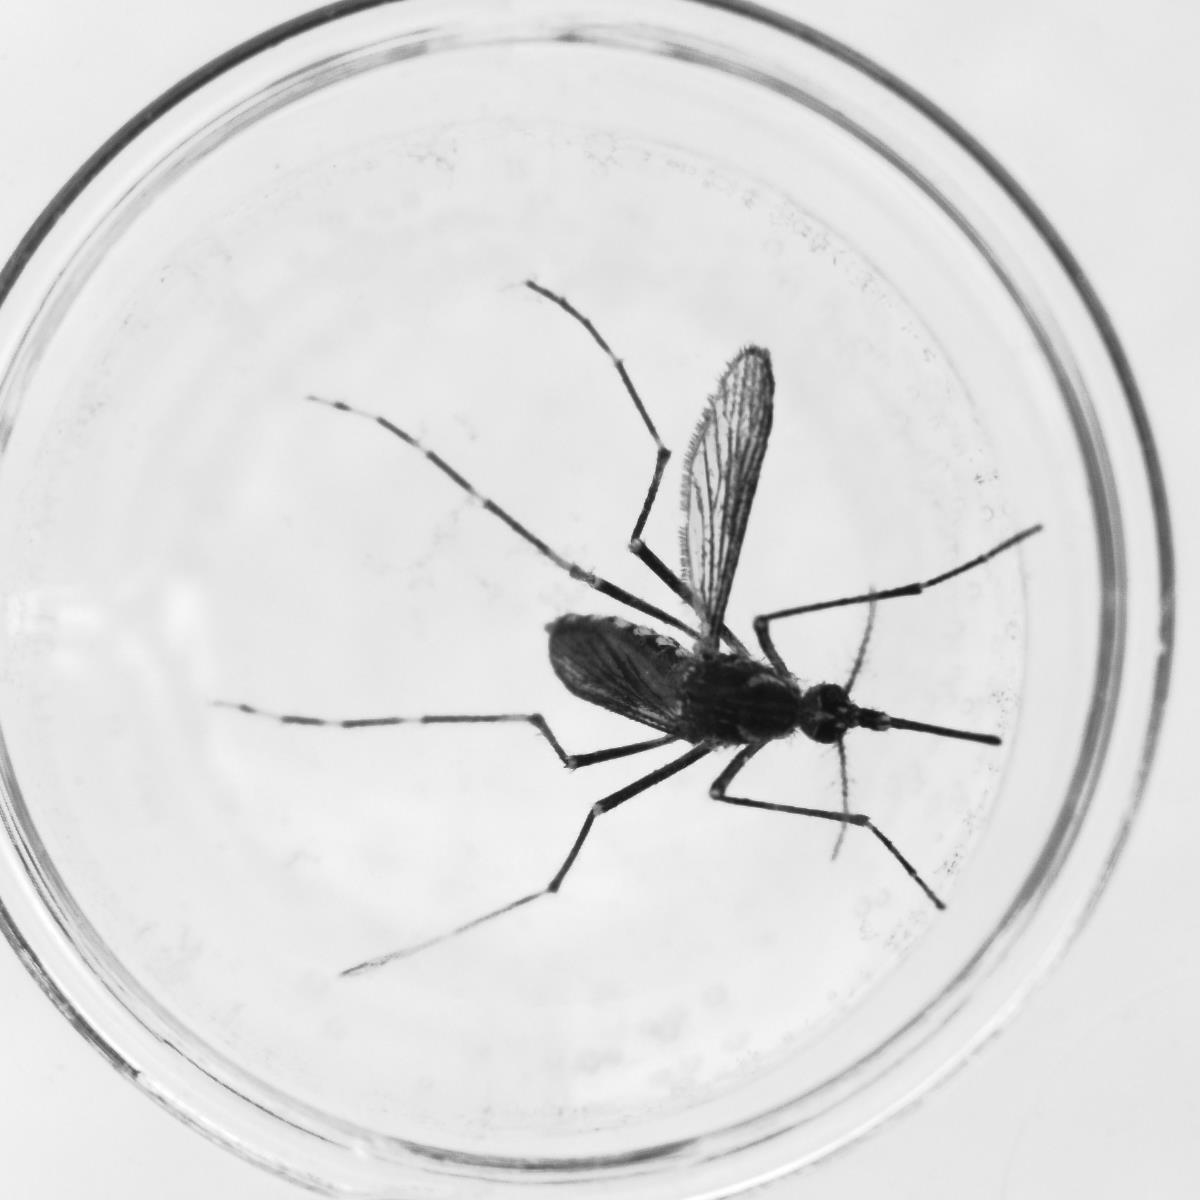f-a: (797, 635, 1058, 835)
f-b: (286, 377, 1084, 971)
